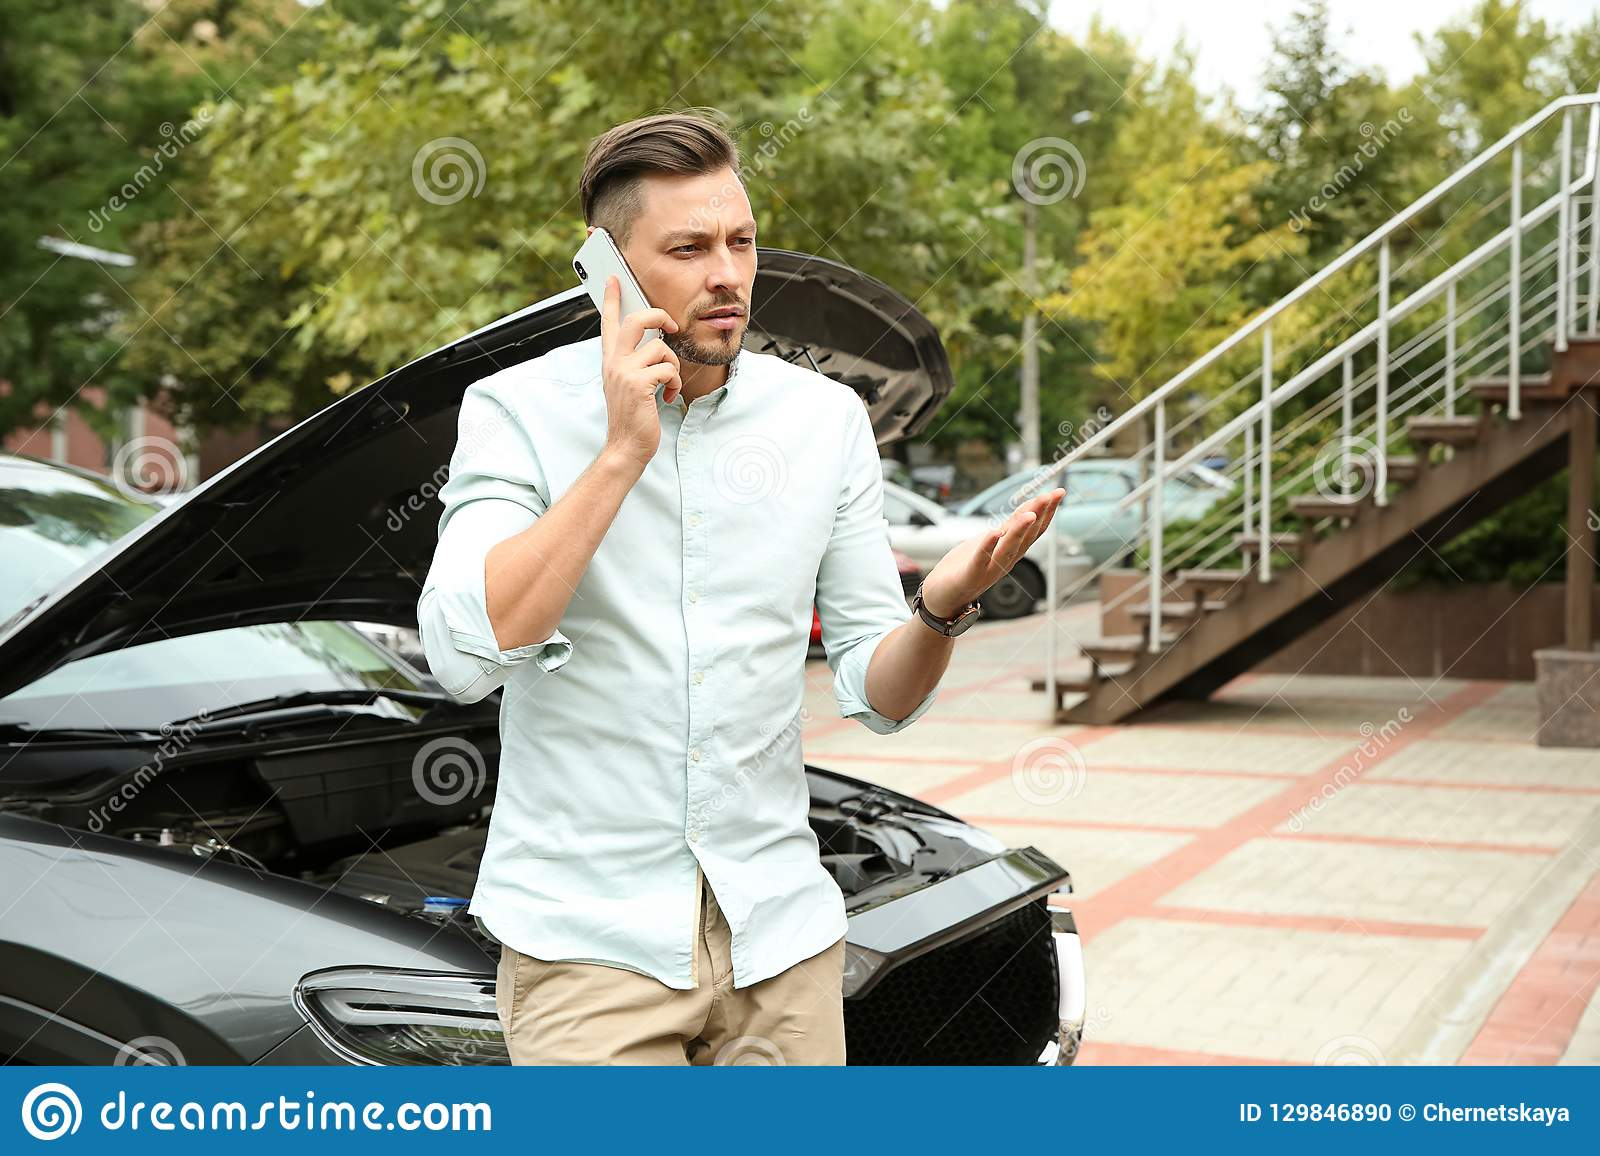phone: (574, 228, 666, 373)
talk: (571, 219, 761, 467)
